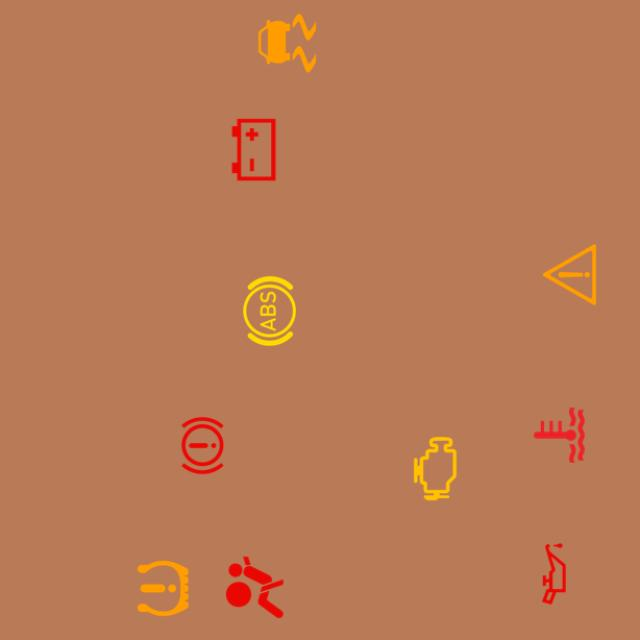Anti Lock Braking System: (232, 273, 308, 349)
Braking System Issue: (164, 408, 240, 483)
Charging System Issue: (216, 111, 292, 188)
Check Engine: (397, 431, 473, 506)
Electronic Stability Problem -ESP-: (249, 5, 325, 81)
Engine Overheating Warning Light: (521, 397, 597, 473)
Low Engine Oil Warning Light: (516, 536, 592, 612)
Low Tire Pressure Warning Light: (125, 550, 201, 626)
Master warning light: (532, 236, 608, 312)
SRS-Airbag: (217, 550, 293, 626)
